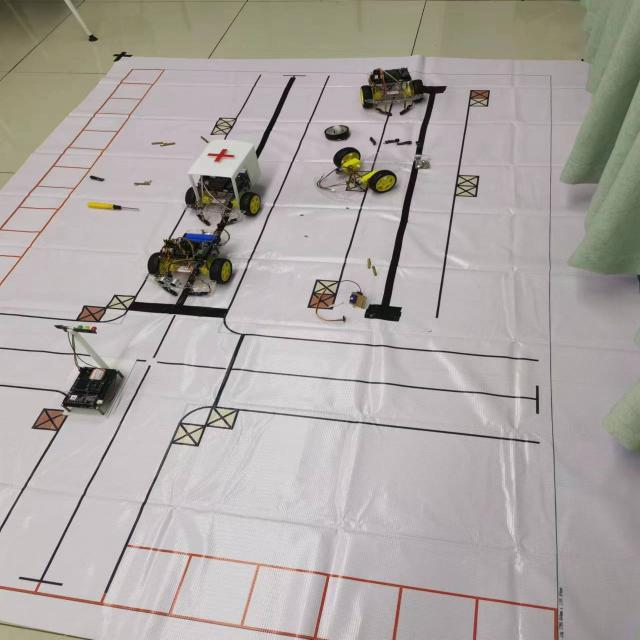RedCross: (205, 147, 236, 165)
